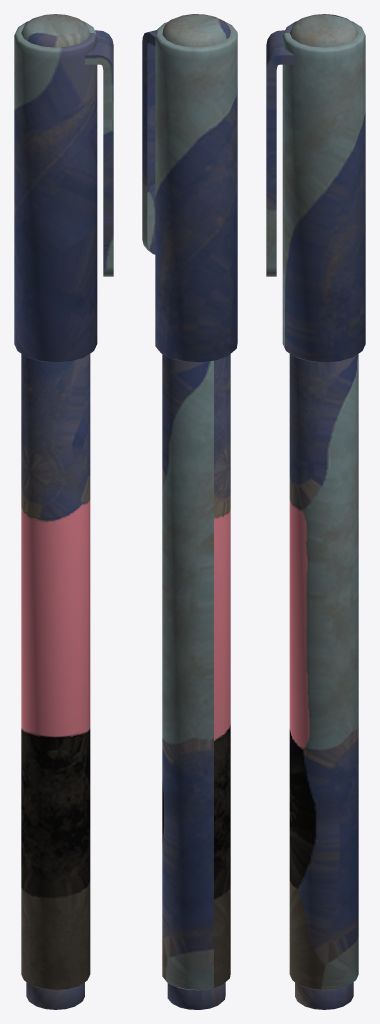
The model's file is pen04.FBX.
3 views of the same model, side by side, from view 1: azimuth 90°, elevation 25°; view 2: azimuth 210°, elevation 25°; view 3: azimuth 270°, elevation 25° (orthographic).
Parts seen in each view (by area): view 1: SM_Pen04; view 2: SM_Pen04; view 3: SM_Pen04.
Boxes of the visible parts, bbox=[...] form: SM_Pen04: bbox=[14, 14, 113, 1009]; SM_Pen04: bbox=[142, 14, 237, 1009]; SM_Pen04: bbox=[266, 14, 365, 1009].
Size of the model in its own units: 1.2 by 15.61 by 1.44.
Materials: 1 (1 with a texture image).
